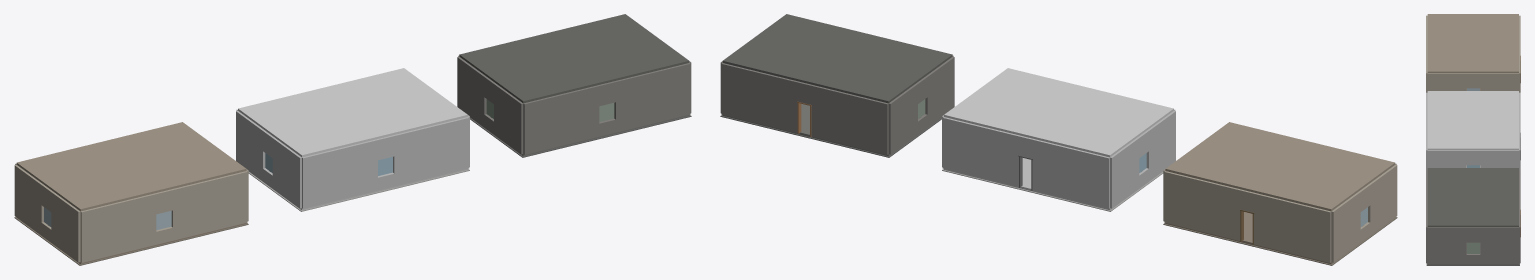
File: baseline.glb
3 views of the same model, side by side, from view 1: azimuth 30°, elevation 25°; view 2: azimuth 150°, elevation 25°; view 3: azimuth 270°, elevation 25° (orthographic). The views are drawn at different scales.
Visible parts, largest first — view 1: industrial_002, medieval_002, modern_002, industrial_008, medieval_008, modern_011, modern_008, industrial_011, medieval_011, medieval_016, modern_016, industrial_016 (+6 smaller); view 2: industrial_002, medieval_002, modern_002, medieval_018, industrial_018, modern_018, modern_020, industrial_020, medieval_020, medieval_013, modern_013, industrial_013 (+9 smaller); view 3: medieval_002, modern_002, industrial_002, industrial_006, industrial_003, medieval_006, modern_006, medieval_003, modern_003, industrial_005, medieval_005, modern_005 (+10 smaller).
Part boxes in pixels (x1,y1,x2,y2): industrial_002: (459,14,689,103); medieval_002: (16,122,246,211); modern_002: (238,68,467,157); industrial_008: (523,85,599,154); medieval_008: (80,193,156,262); modern_011: (393,117,469,186); modern_008: (302,139,377,208); industrial_011: (614,63,690,132); medieval_011: (171,171,247,240); medieval_016: (51,191,80,262); modern_016: (272,137,301,208); industrial_016: (494,83,523,154); industrial_002: (722,14,952,103); medieval_002: (1165,122,1395,211); modern_002: (944,68,1173,157); medieval_018: (1253,193,1331,262); industrial_018: (810,85,888,154); modern_018: (1032,138,1109,208); modern_020: (942,117,1020,186); industrial_020: (721,63,798,132); medieval_020: (1164,171,1241,240); medieval_013: (1331,191,1360,262); modern_013: (1110,137,1139,208); industrial_013: (888,83,917,154); medieval_002: (1427,14,1518,73); modern_002: (1427,91,1518,150); industrial_002: (1427,168,1518,227); industrial_006: (1427,227,1466,264); industrial_003: (1480,227,1518,264); medieval_006: (1427,73,1466,90); modern_006: (1427,150,1466,167); medieval_003: (1480,73,1518,90); modern_003: (1480,150,1518,167); industrial_005: (1466,227,1480,242); medieval_005: (1466,73,1480,88); modern_005: (1466,150,1480,165).
Bounding box in the file's own units: 44.3 × 3.85 × 8.32.
